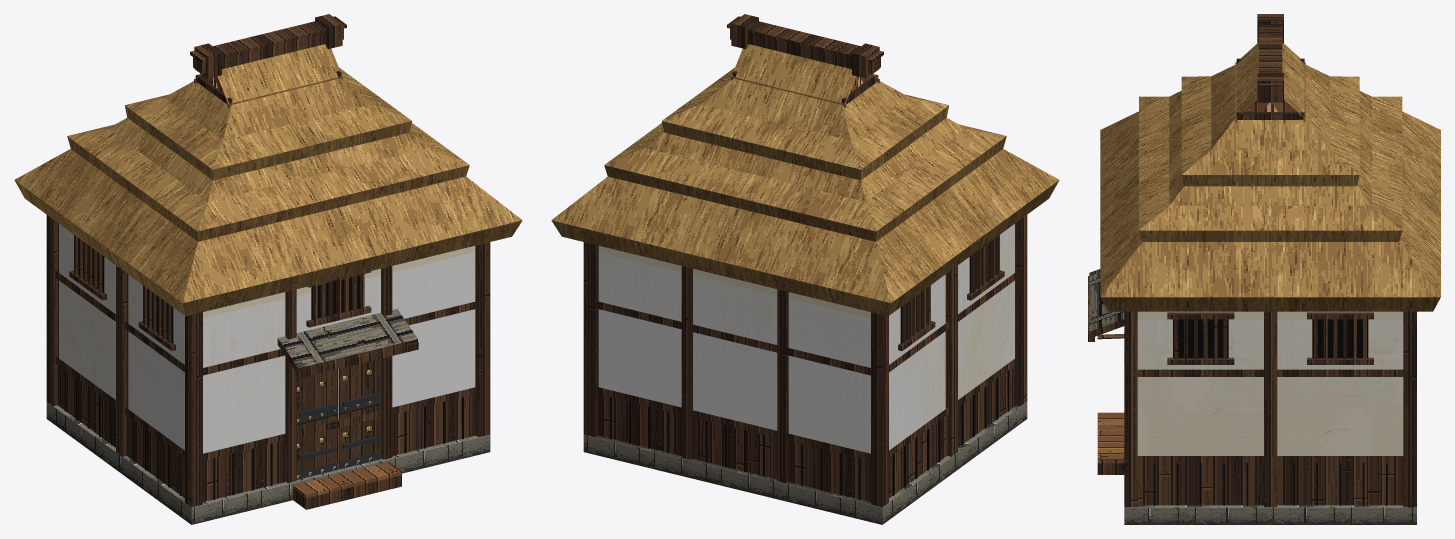
The model's file is JP_Farm_Storehouse_A.glb.
3 renders of one model, left to right at view 1: azimuth 30°, elevation 25°; view 2: azimuth 150°, elevation 25°; view 3: azimuth 270°, elevation 25°, orthographic.
Parts seen in each view (by area): view 1: JP_Farm_Storehouse_A, COL_JP_Farm_Storehouse_A; view 2: JP_Farm_Storehouse_A, COL_JP_Farm_Storehouse_A; view 3: JP_Farm_Storehouse_A, COL_JP_Farm_Storehouse_A.
Boxes of the visible parts, x1,y1,x2,y2 form: JP_Farm_Storehouse_A: (14,14,522,524); COL_JP_Farm_Storehouse_A: (59,224,475,453); JP_Farm_Storehouse_A: (551,14,1059,524); COL_JP_Farm_Storehouse_A: (598,224,1014,453); JP_Farm_Storehouse_A: (1088,14,1440,524); COL_JP_Farm_Storehouse_A: (1137,320,1403,455).
Bounding box in the file's own units: 7.1 × 7.99 × 6.32.
Materials: 11 (11 with a texture image).
